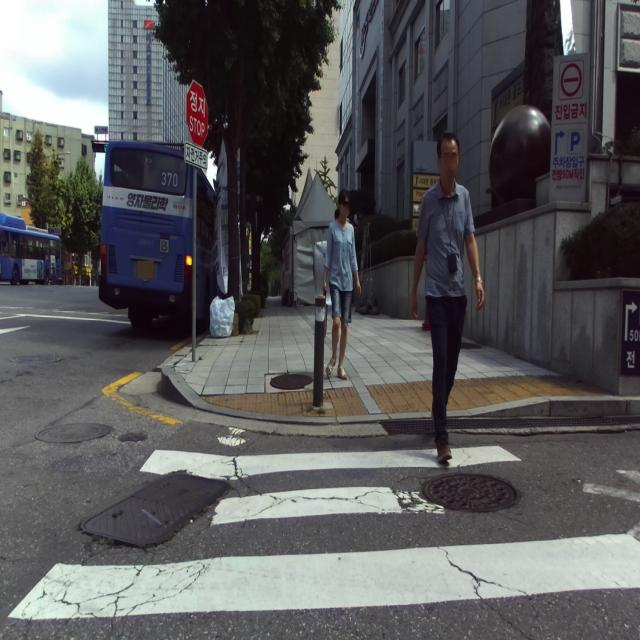횡단보도: (7, 426, 640, 619)
